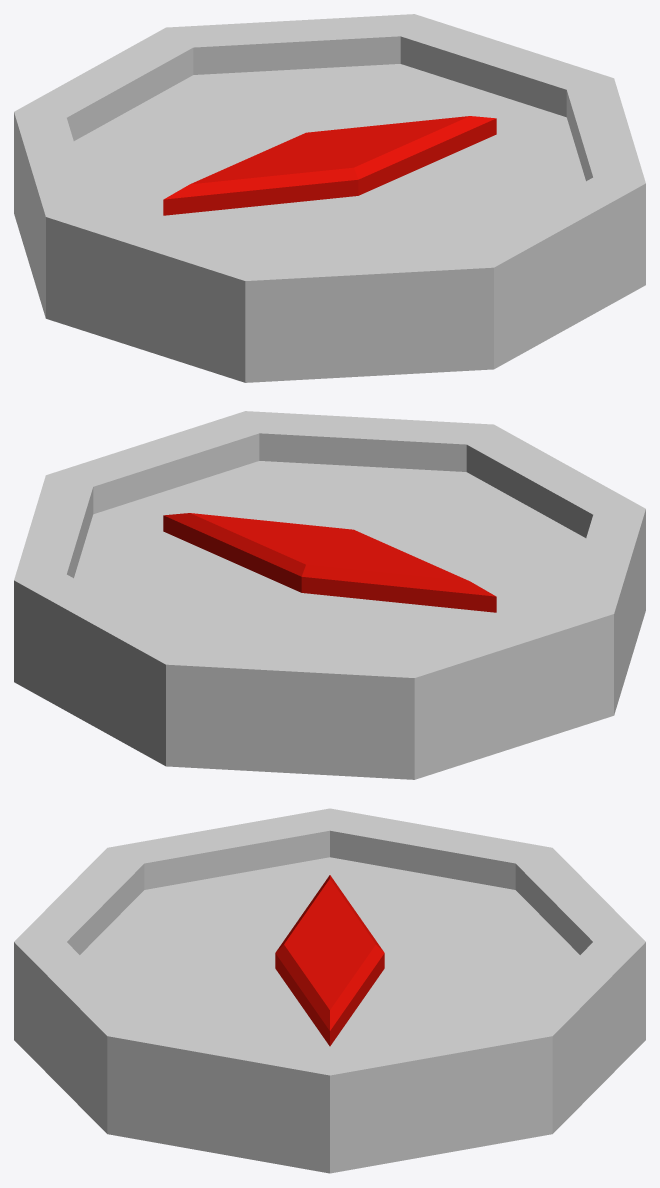
File: Compass.fbx
The picture shows the model from 3 angles, top to bottom: view 1: azimuth 30°, elevation 25°; view 2: azimuth 150°, elevation 25°; view 3: azimuth 270°, elevation 25°; orthographic projection. The views are drawn at different scales.
Visible parts, largest first — view 1: Cube, Cube.001; view 2: Cube, Cube.001; view 3: Cube, Cube.001.
Part boxes in pixels (x1,y1,x2,y2): Cube: (14,14,645,382); Cube.001: (163,116,496,215); Cube: (14,411,645,779); Cube.001: (163,513,496,612); Cube: (14,808,645,1173); Cube.001: (275,875,384,1046).
Bounding box in the file's own units: 284 × 48.55 × 284.
